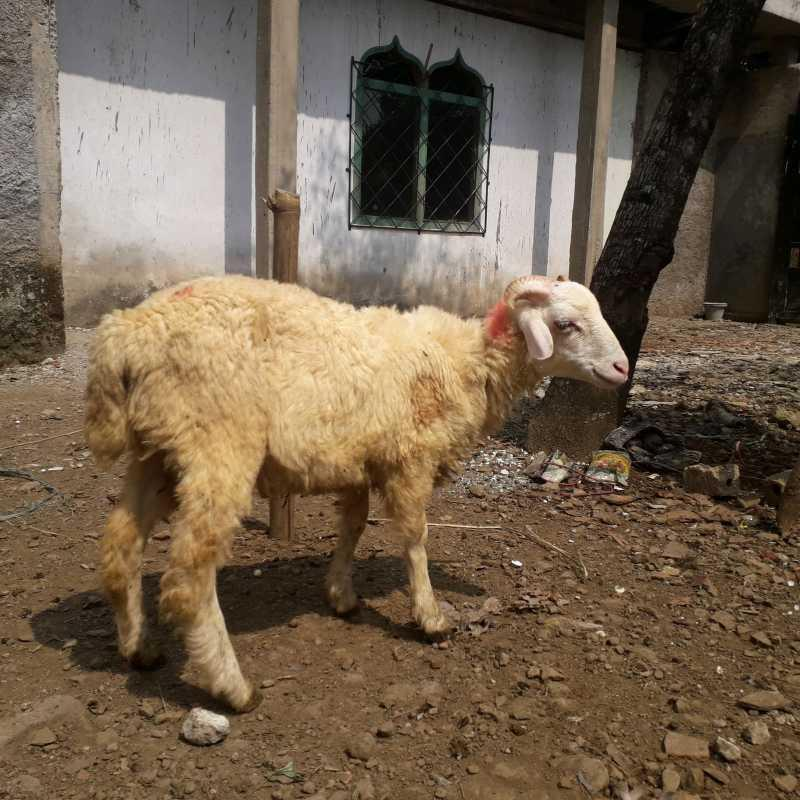Sheep: (428, 234, 651, 456)
